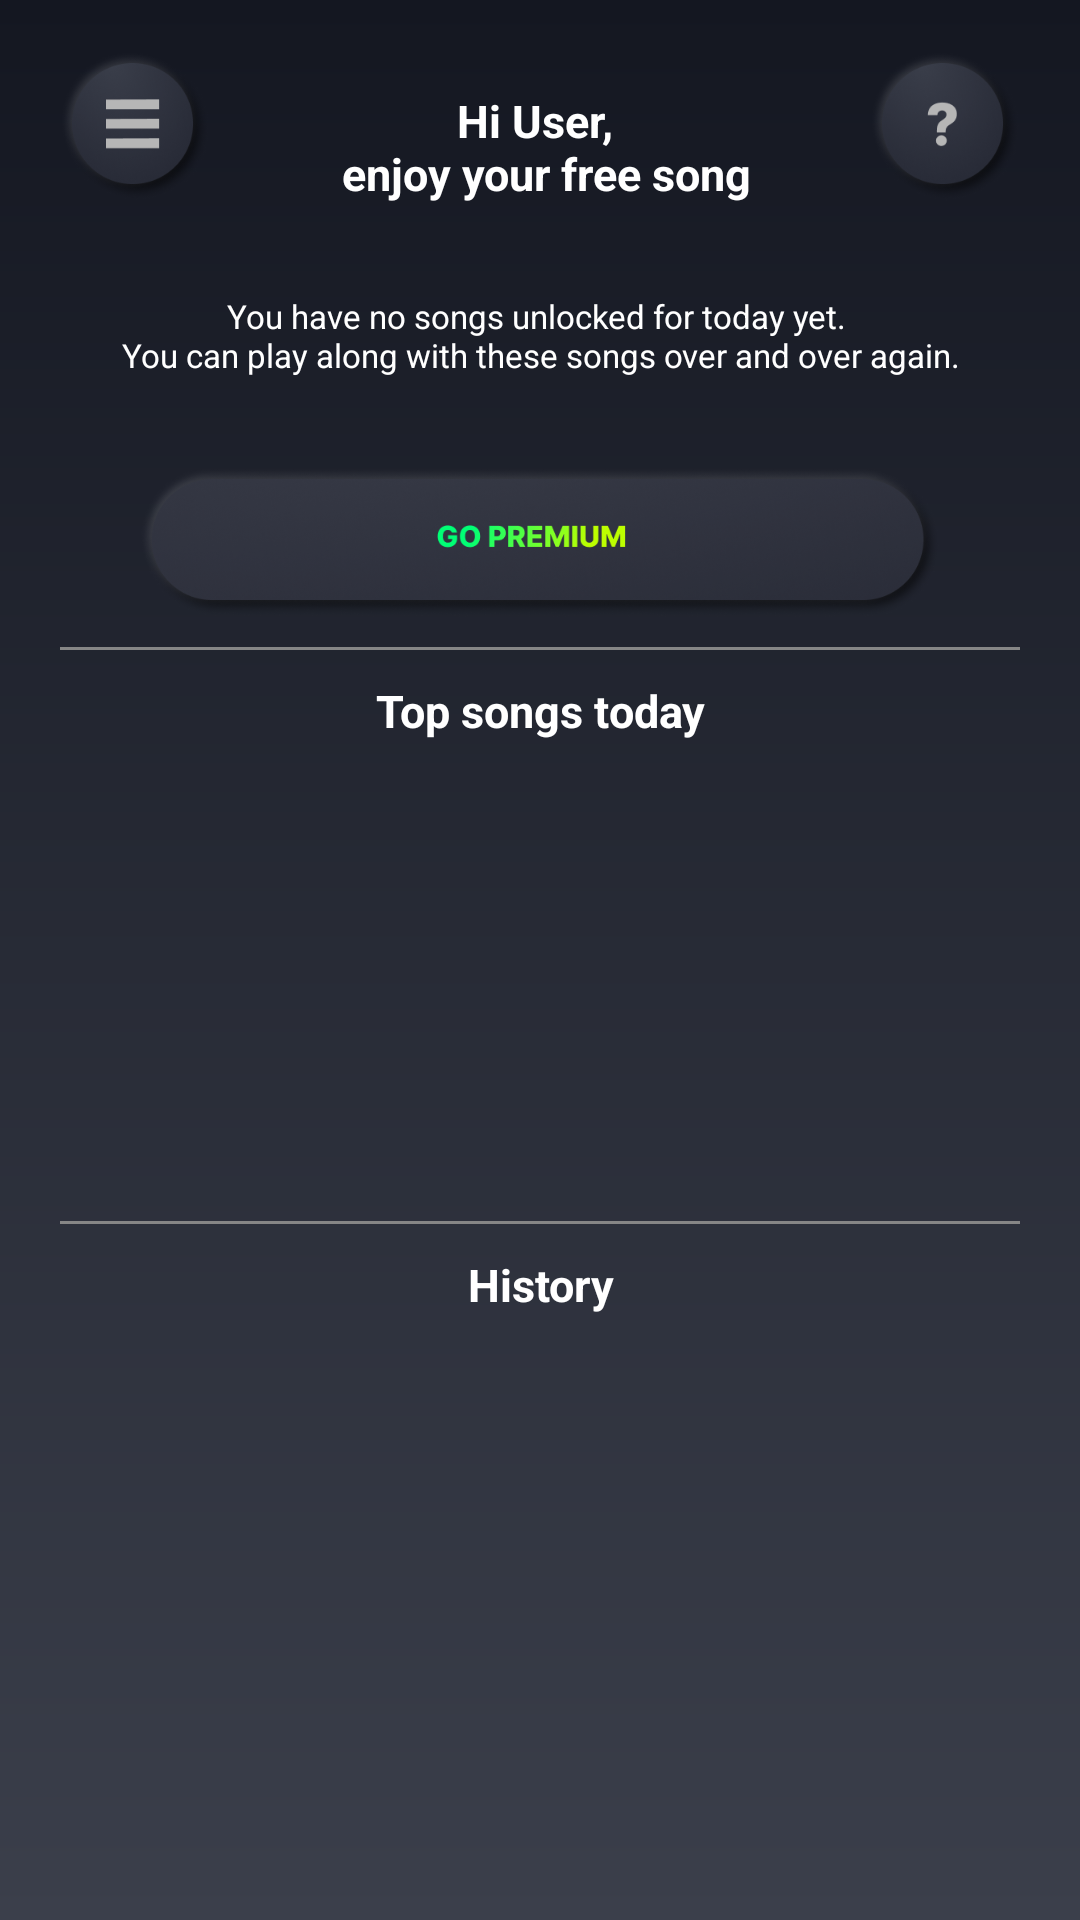

Point at icon controls on the screen. Image size 1080w x 1920h, points as (x=x, y=y).
help but: (x=939, y=115)
properties but: (x=129, y=115)
